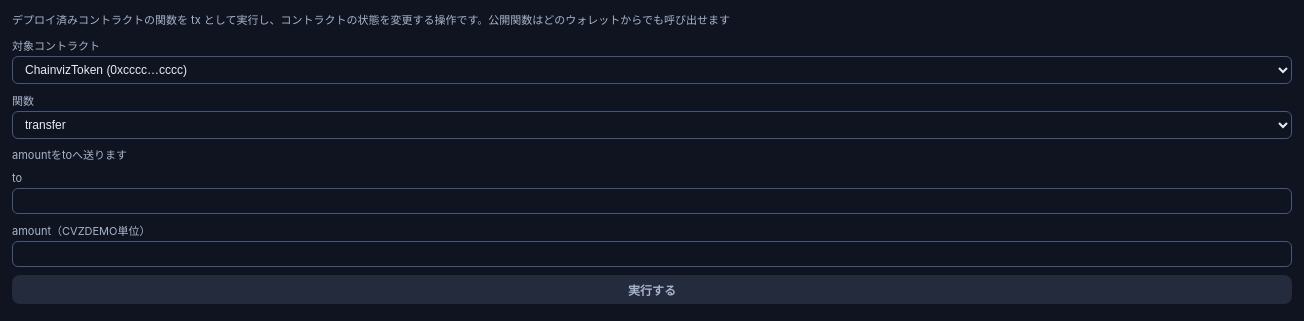
CallForm with a token-unit function arg (Issue #219) › switches label and validation when moving from a token-unit function to a plain-uint function on the same contract
This screenshot has width=1304, height=321.
Expected: the text "amount（CVZDEMO単位）" is shown, x1=12 y1=224 x2=150 y2=238
Type "1.5" into the field with test id "operation-call-arg-amount".
click(652, 254); type("1.5")  # box x1=12 y1=241 x2=1292 y2=267
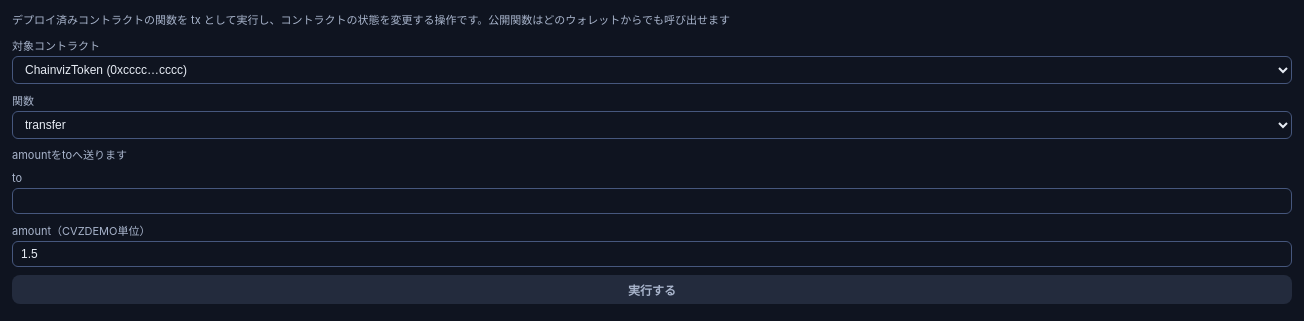
Select "incrementBy" in the dropdown with test id "operation-call-function" at coordinates (652, 124), box x1=12 y1=110 x2=1292 y2=138
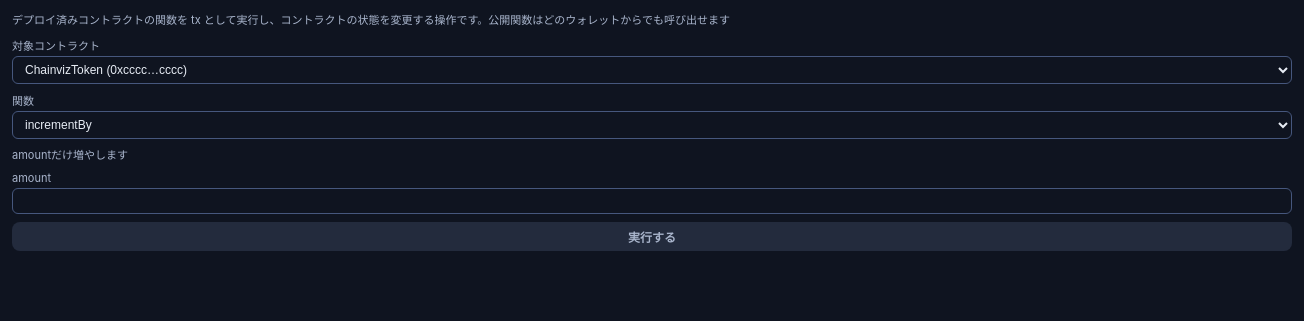
Expected: the text "amount" is shown, x1=12 y1=171 x2=51 y2=185
Expected: the text "amount（CVZDEMO単位）" is gone
Type "1.5" into the field with test id "operation-call-arg-amount".
click(652, 201); type("1.5")  # box x1=12 y1=188 x2=1292 y2=214
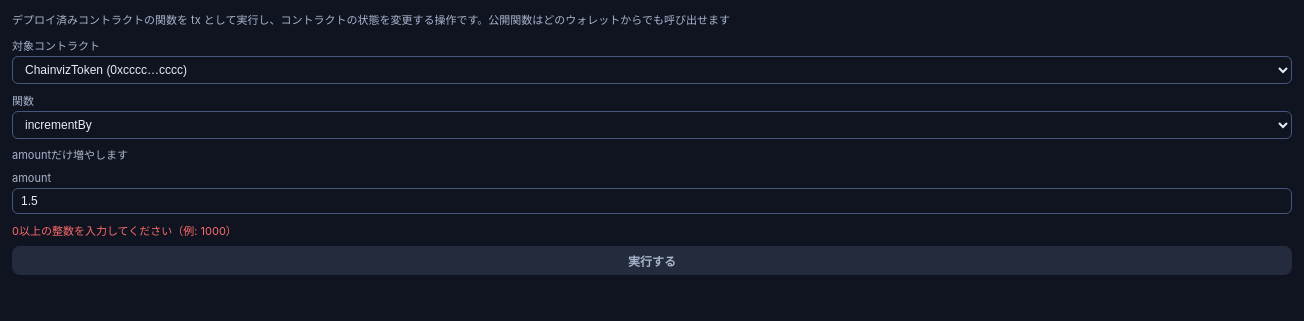
Expected: the text with test id "operation-call-arg-amount-error" reads "0以上の整数を入力してください（例: 1000）", x1=12 y1=224 x2=237 y2=238
